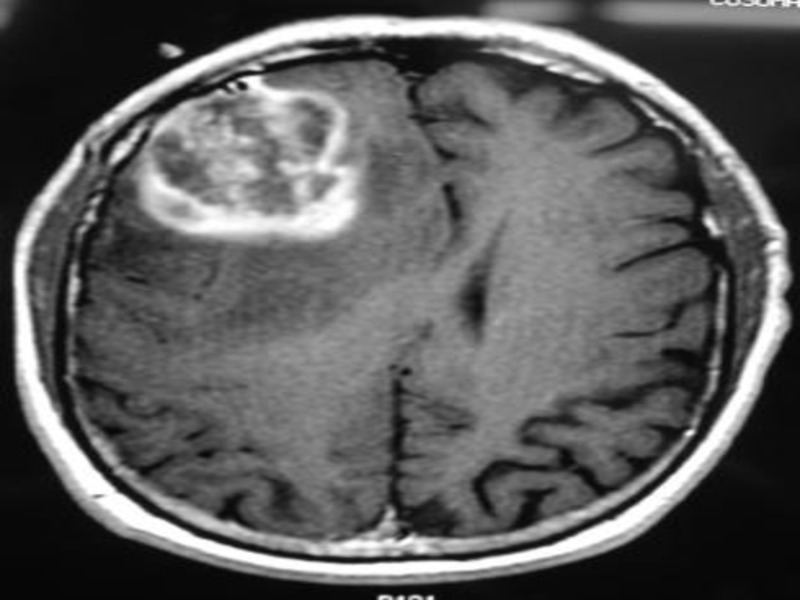tumor: (143, 82, 364, 247)
